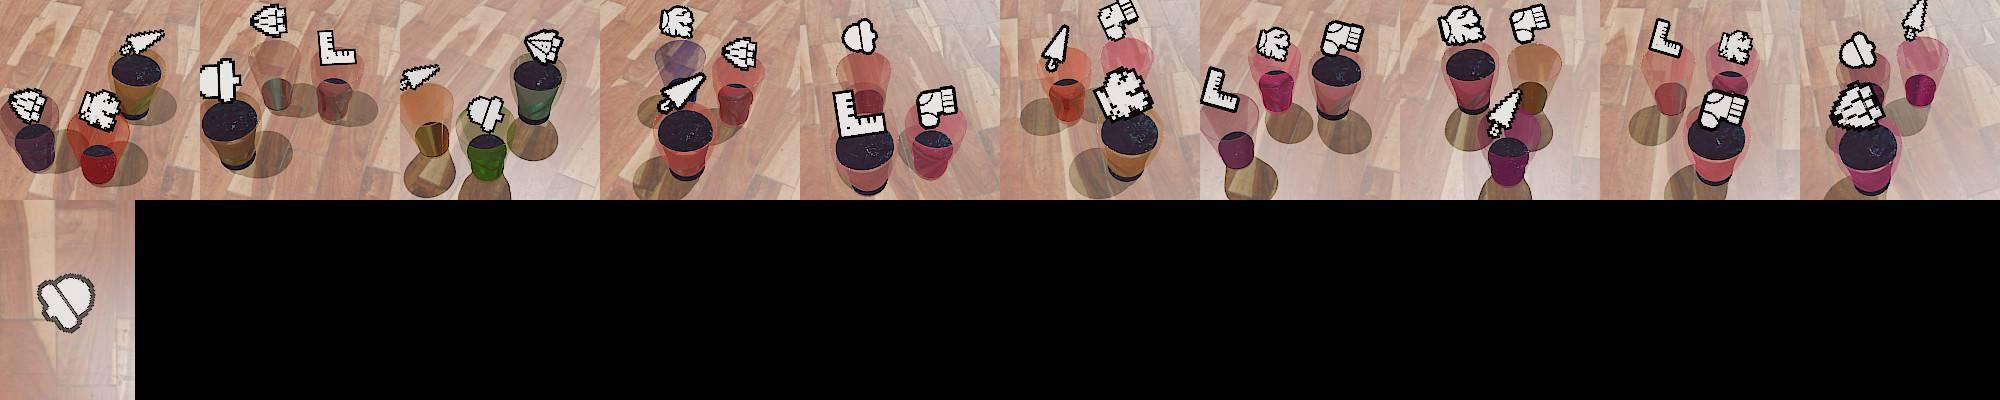icon: (35, 272, 95, 333), (1091, 66, 1154, 122), (831, 88, 888, 142), (1828, 81, 1885, 129), (656, 70, 708, 115), (1697, 88, 1749, 131), (1437, 4, 1485, 47), (1485, 85, 1524, 137), (199, 57, 243, 103), (77, 89, 123, 131), (1200, 65, 1239, 114), (916, 85, 959, 128), (1320, 18, 1366, 57), (1097, 0, 1141, 40), (1509, 4, 1552, 44), (464, 94, 507, 131), (522, 29, 565, 66), (1648, 16, 1684, 60), (317, 28, 357, 67), (1839, 31, 1878, 70), (8, 88, 48, 125), (1041, 24, 1071, 73), (841, 17, 879, 54), (1255, 25, 1292, 63), (1716, 28, 1755, 64), (121, 28, 167, 58), (249, 3, 288, 38), (720, 36, 759, 70), (658, 5, 695, 39), (1901, 0, 1929, 42), (400, 63, 440, 92)
